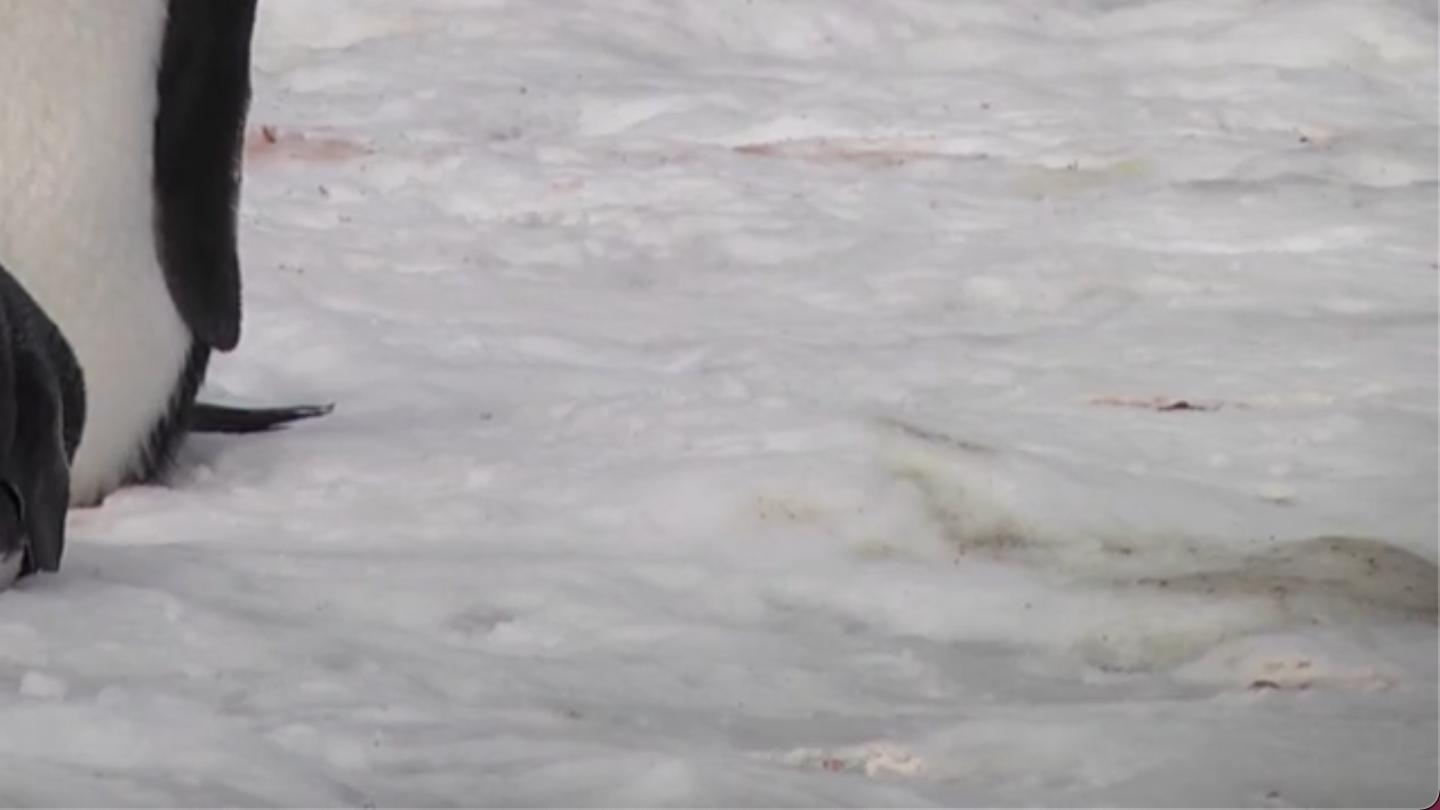Chinstrap Penguin: (0, 167, 191, 646), (0, 0, 304, 154)
